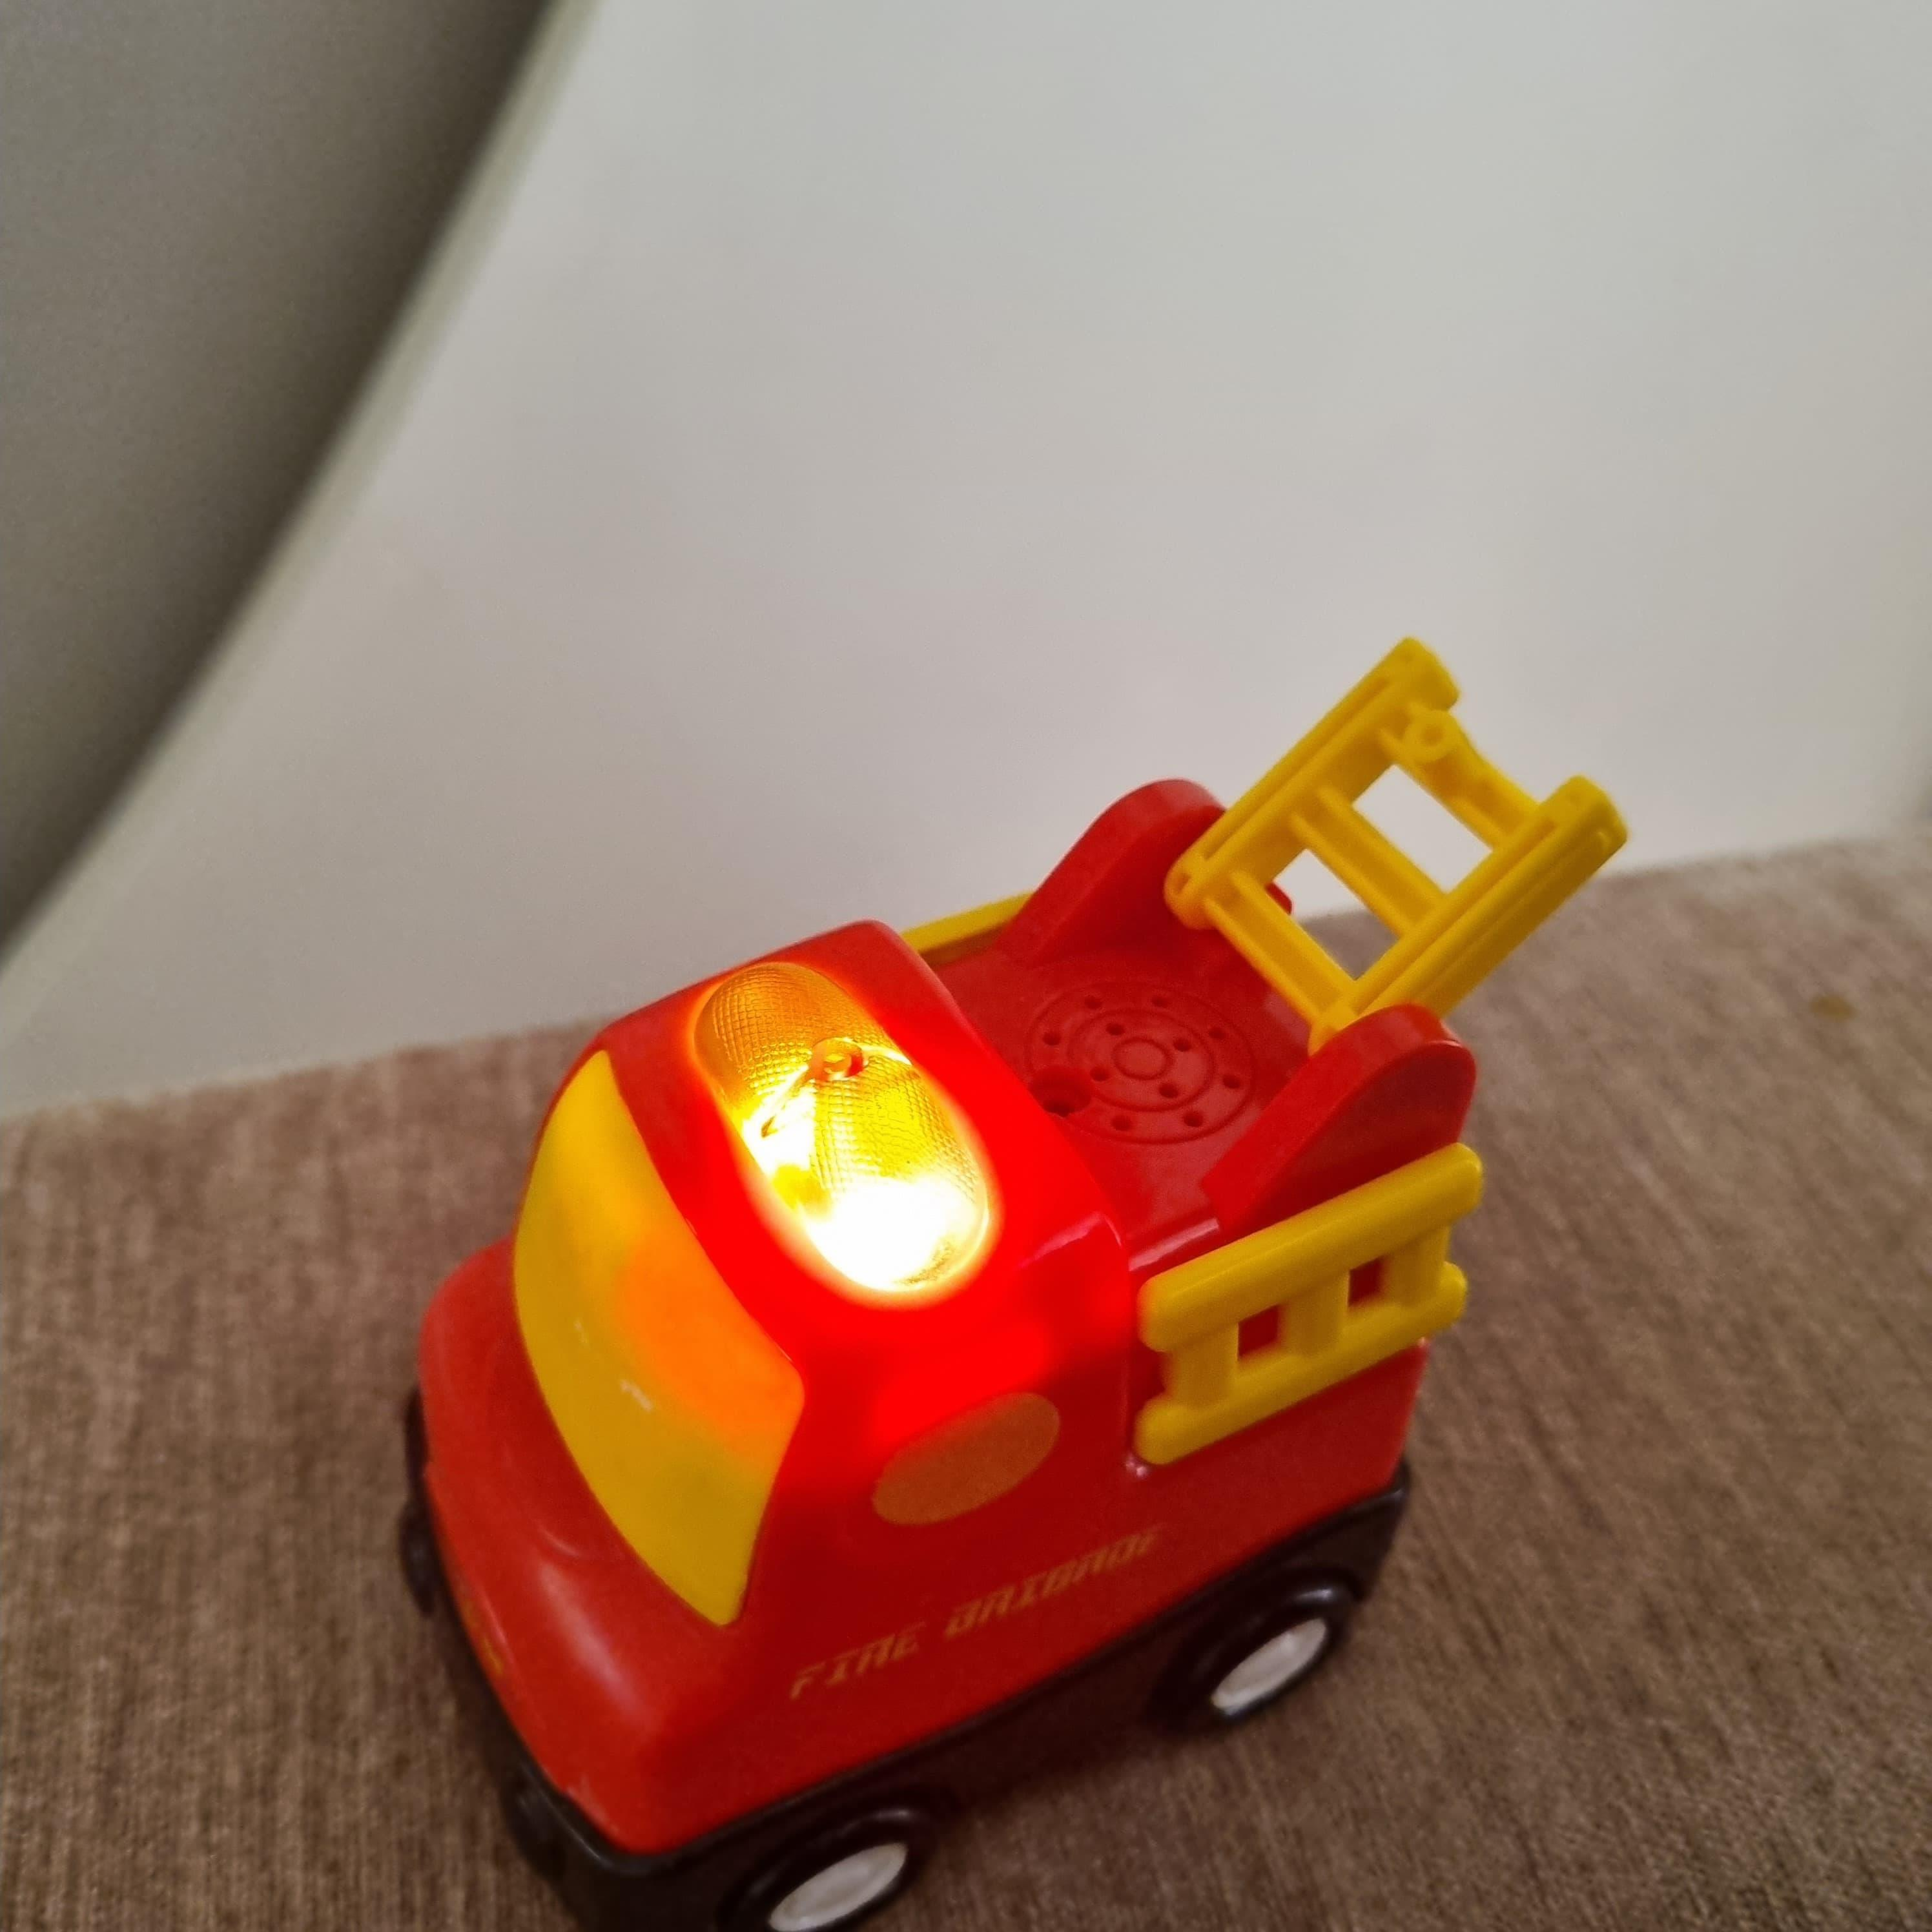firetruck_on: (403, 637, 1629, 1932)
